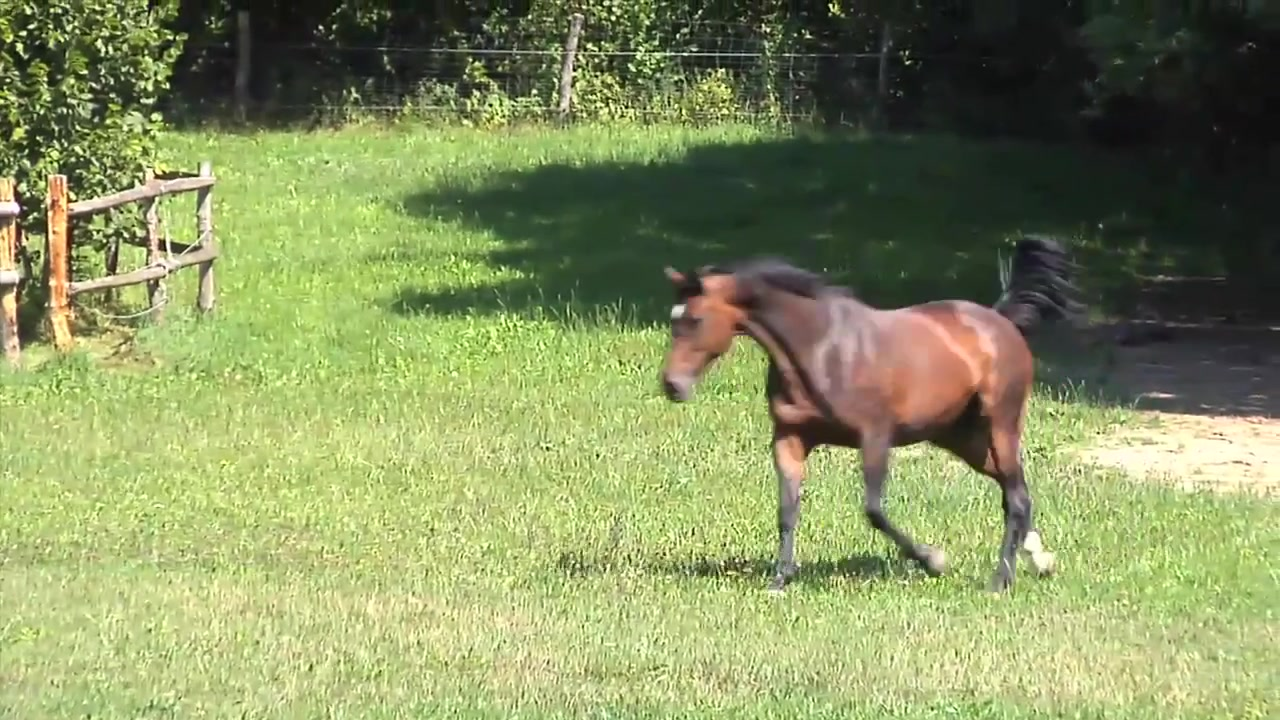horse: (656, 230, 1086, 594)
